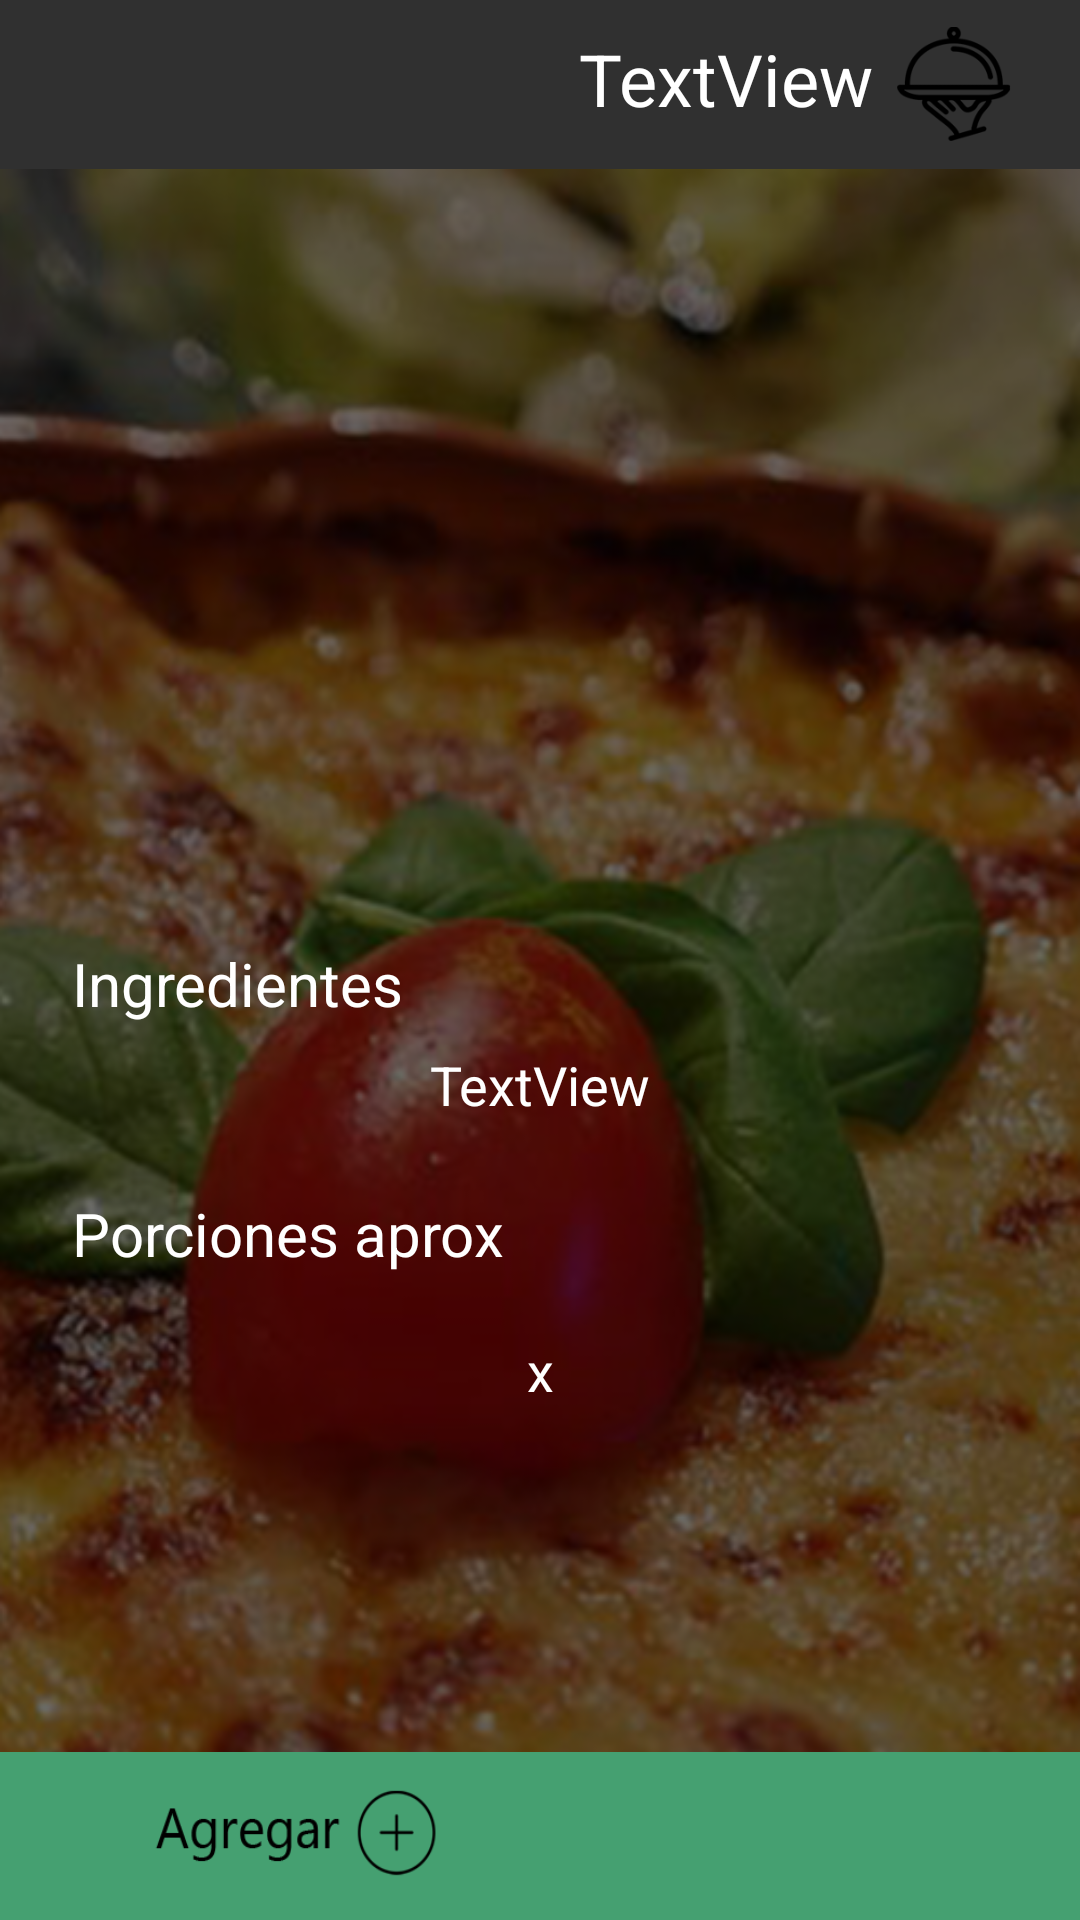

Screen size 1080*1920. Icon name, then its box in pixels as (x1, y1, x2, y2):
plato: (897, 27, 1010, 141)
